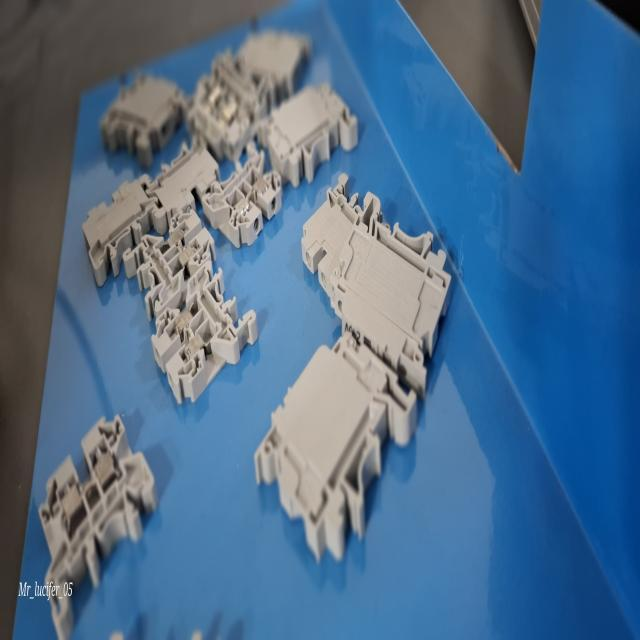Pass: (28, 404, 171, 633), (152, 260, 262, 410), (123, 200, 215, 310), (200, 144, 286, 250)
